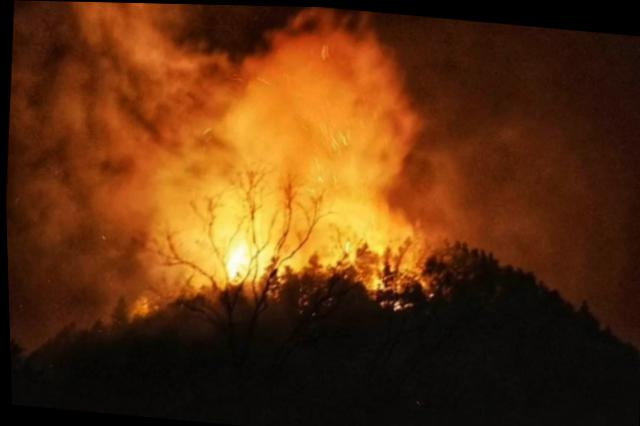fire: (96, 47, 435, 328)
